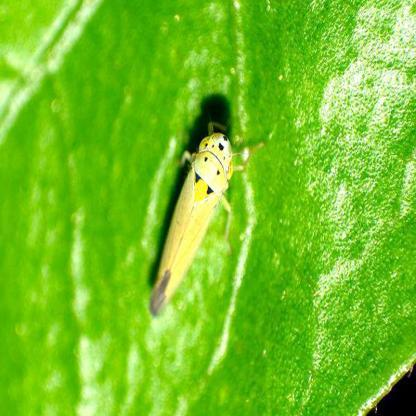green-leafhopper: (151, 118, 248, 314)
